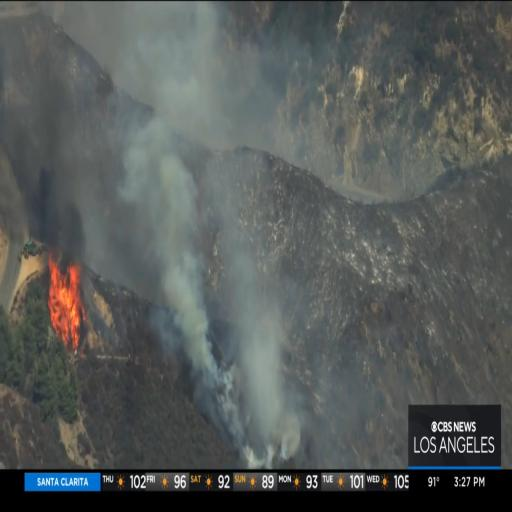fire: (49, 265, 83, 349)
smoke: (132, 133, 195, 243), (165, 258, 216, 382), (254, 348, 290, 430)
